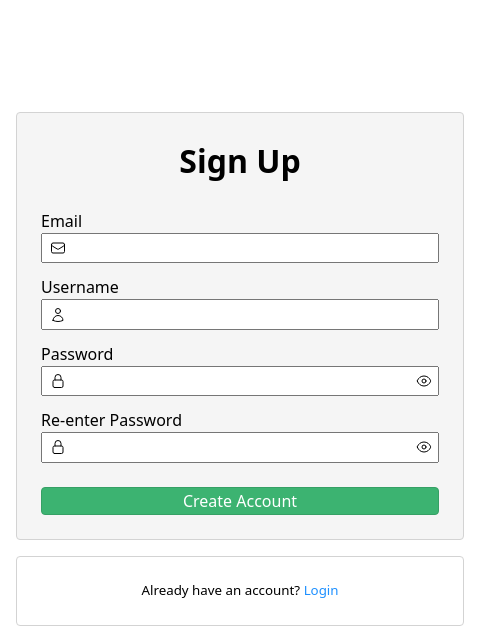
Scenario: SignupPage › should display errors when signup button clicked and inputs invalid (email=false, user=true, pass=true, passMatch=true)
Type "email" into the field labelled "Email" at (240, 248), box [41, 233, 439, 263]
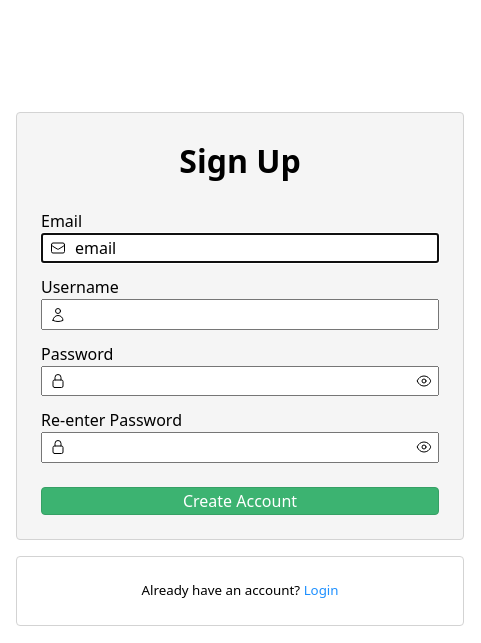
Type "user" into the field labelled "Username" at (240, 315), box [41, 299, 439, 330]
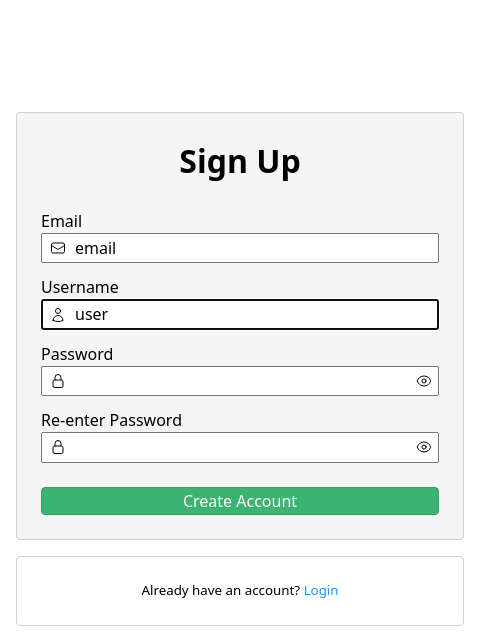
Type "pass" into the password field labelled "Password" at (240, 381), box [41, 366, 439, 396]
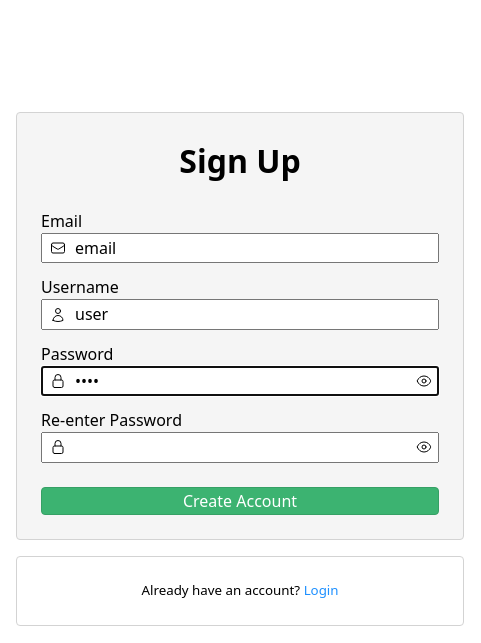
Type "pass" into the password field labelled "Re-enter Password" at (240, 447), box [41, 432, 439, 463]
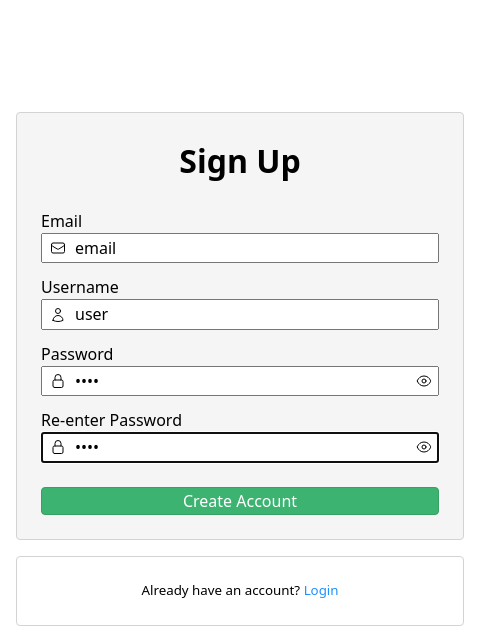
Click the button "Create Account" at (240, 501), box [41, 487, 439, 515]
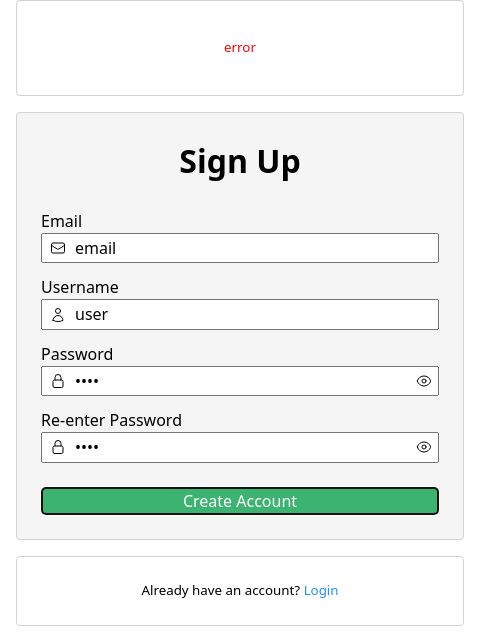
Result: the text "error" is shown once at [224, 38, 256, 58]
